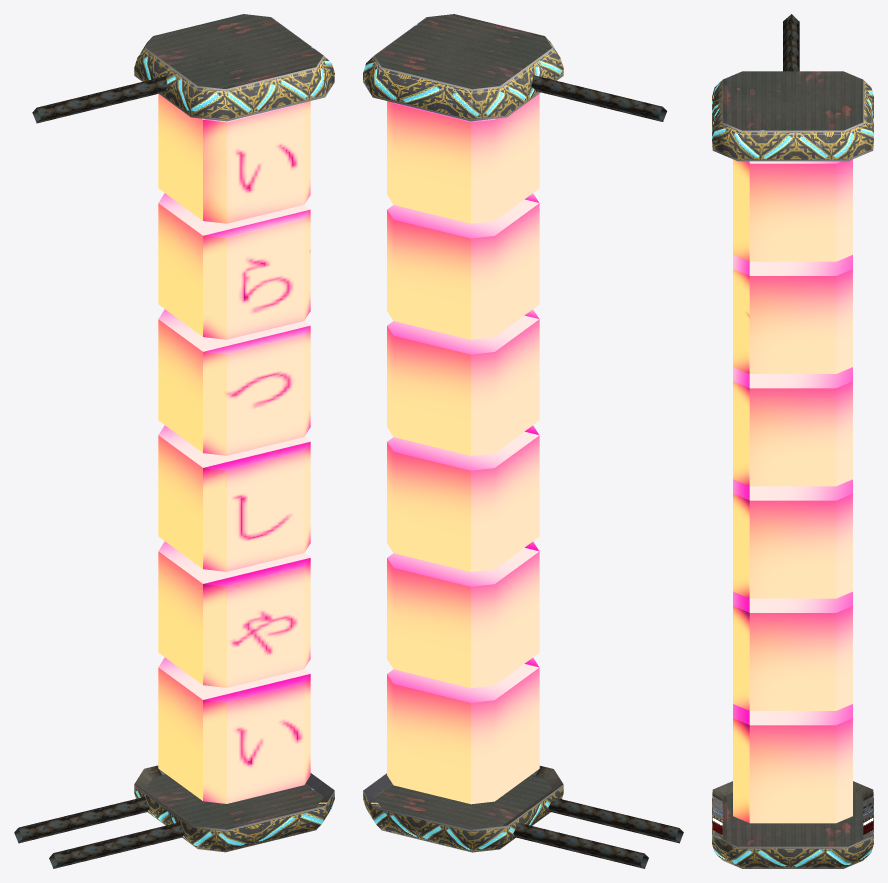
File: Japanese_Sign_11.glb
3 views of the same model, side by side, from view 1: azimuth 30°, elevation 25°; view 2: azimuth 150°, elevation 25°; view 3: azimuth 270°, elevation 25° (orthographic). The views are drawn at different scales.
Parts seen in each view (by area): view 1: Japanese_Sign_11; view 2: Japanese_Sign_11; view 3: Japanese_Sign_11.
Part boxes in pixels (<box>): Japanese_Sign_11: <box>14,14,334,868</box>; Japanese_Sign_11: <box>363,14,683,868</box>; Japanese_Sign_11: <box>712,14,873,868</box>.
Size of the model in its own units: 0.7657 by 2.06 by 0.4088.
4 materials, 3 textured.
